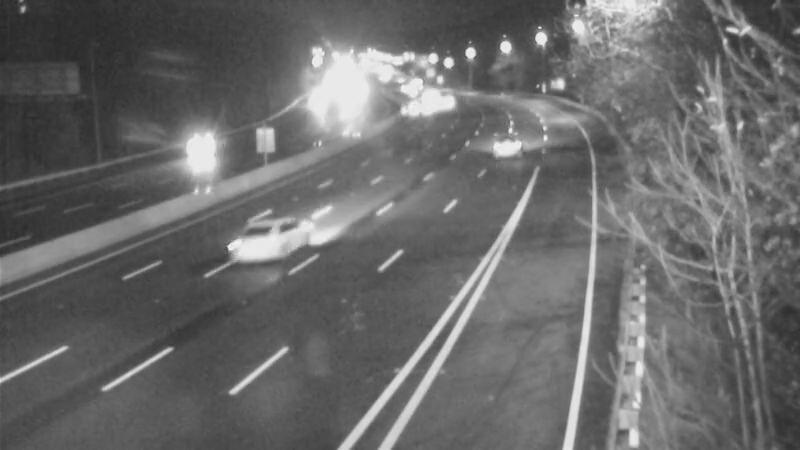vehicle: (215, 205, 295, 285), (159, 112, 239, 192), (416, 77, 466, 127), (384, 85, 434, 135), (474, 117, 524, 167)
